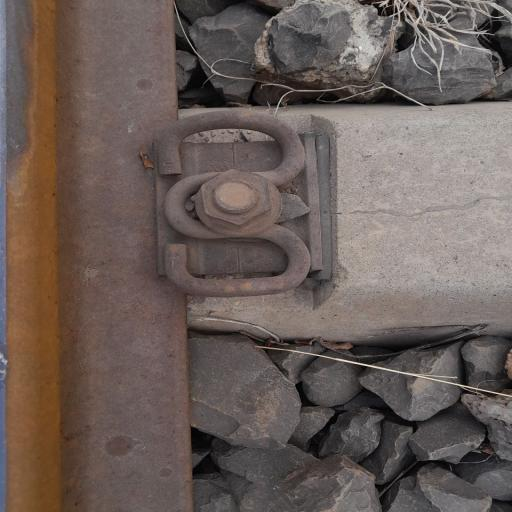bolt: (196, 167, 288, 237)
clip: (142, 98, 336, 302)
